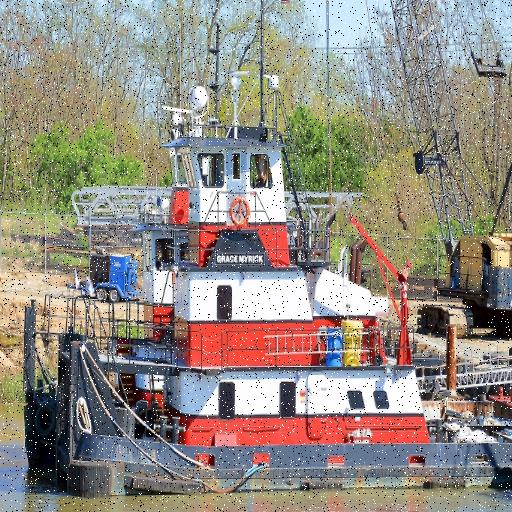tugboat: (18, 65, 512, 501)
